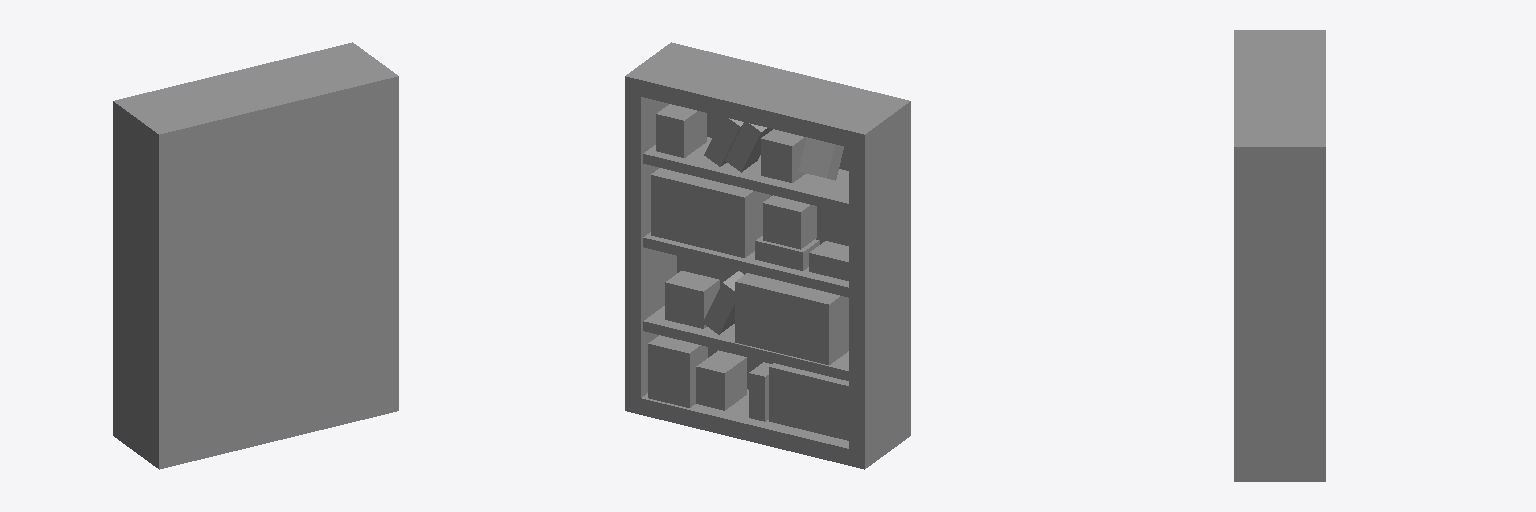
3 views of the same model, side by side, from view 1: azimuth 30°, elevation 25°; view 2: azimuth 150°, elevation 25°; view 3: azimuth 270°, elevation 25° (orthographic).
Parts seen in each view (by area): view 1: Library; view 2: Library; view 3: Library.
Part boxes in pixels (x1,y1,x2,y2): Library: (113,42,398,469); Library: (625,42,910,469); Library: (1234,30,1325,481).
Size of the model in its own units: 1.88 by 2.5 by 0.625.